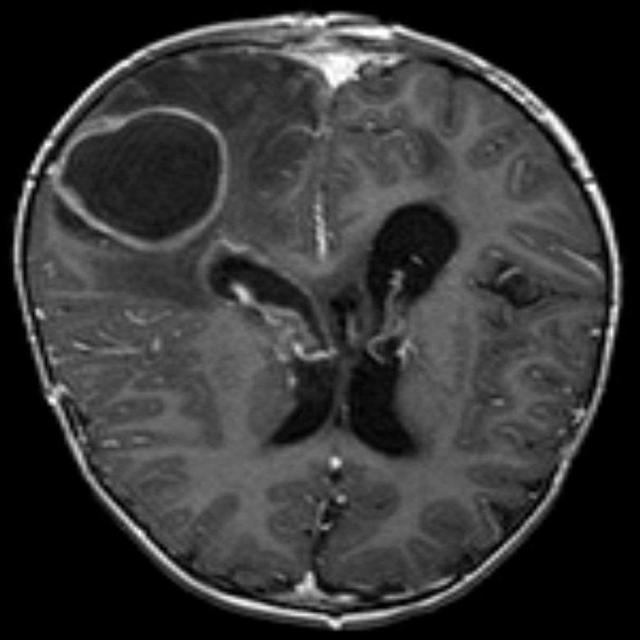Tumor: (38, 102, 238, 256)
